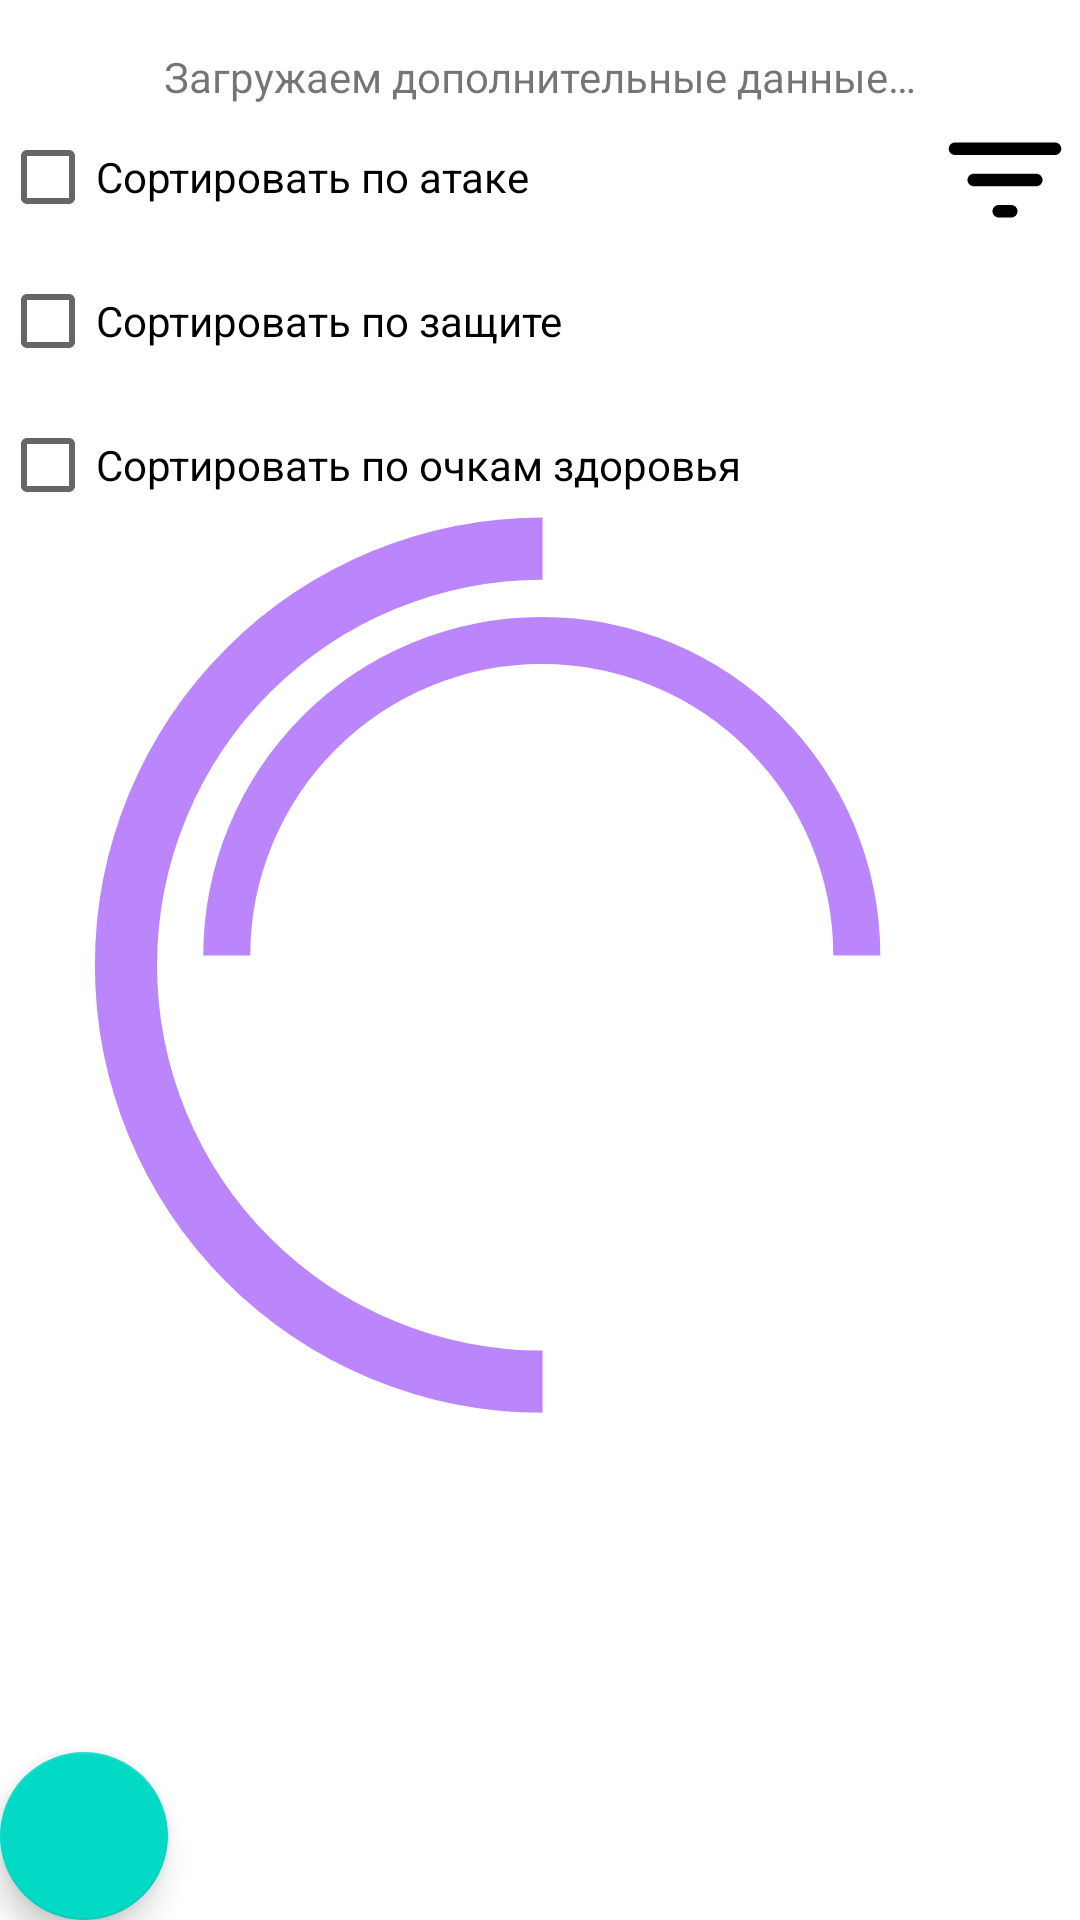

Screen size 1080 x 1920. Icon name, then its center in pixels as (x=x, y=y):
кнопка сортировки: (x=1005, y=180)
